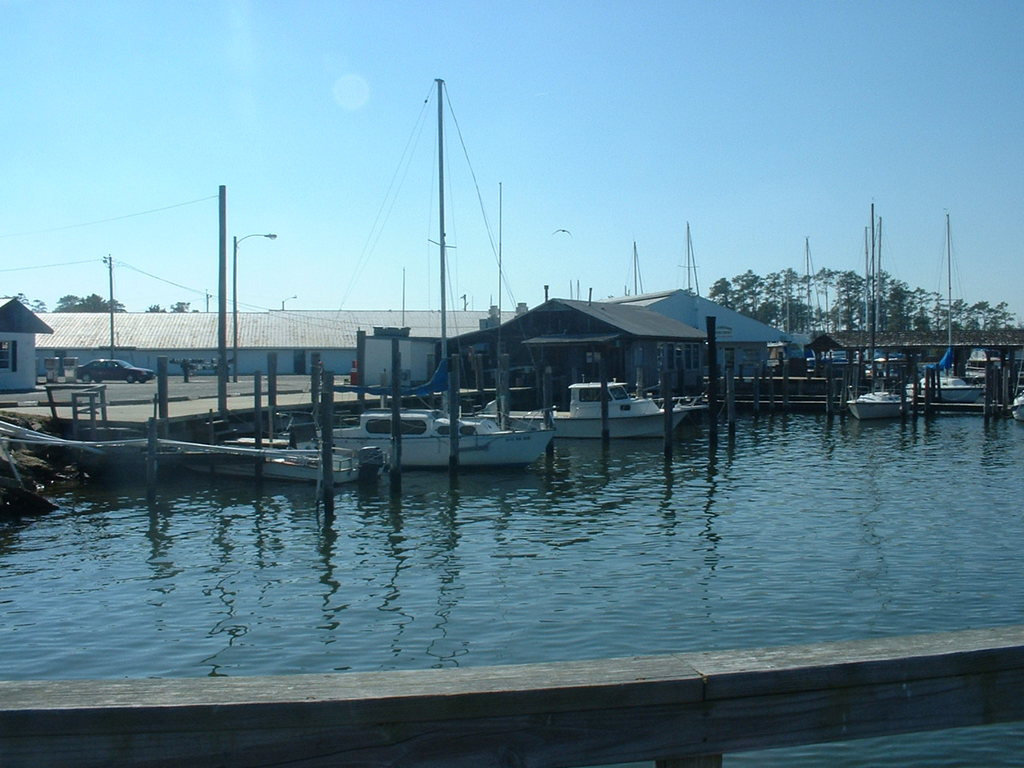Tree: (702, 266, 1008, 325), (0, 291, 210, 314)
